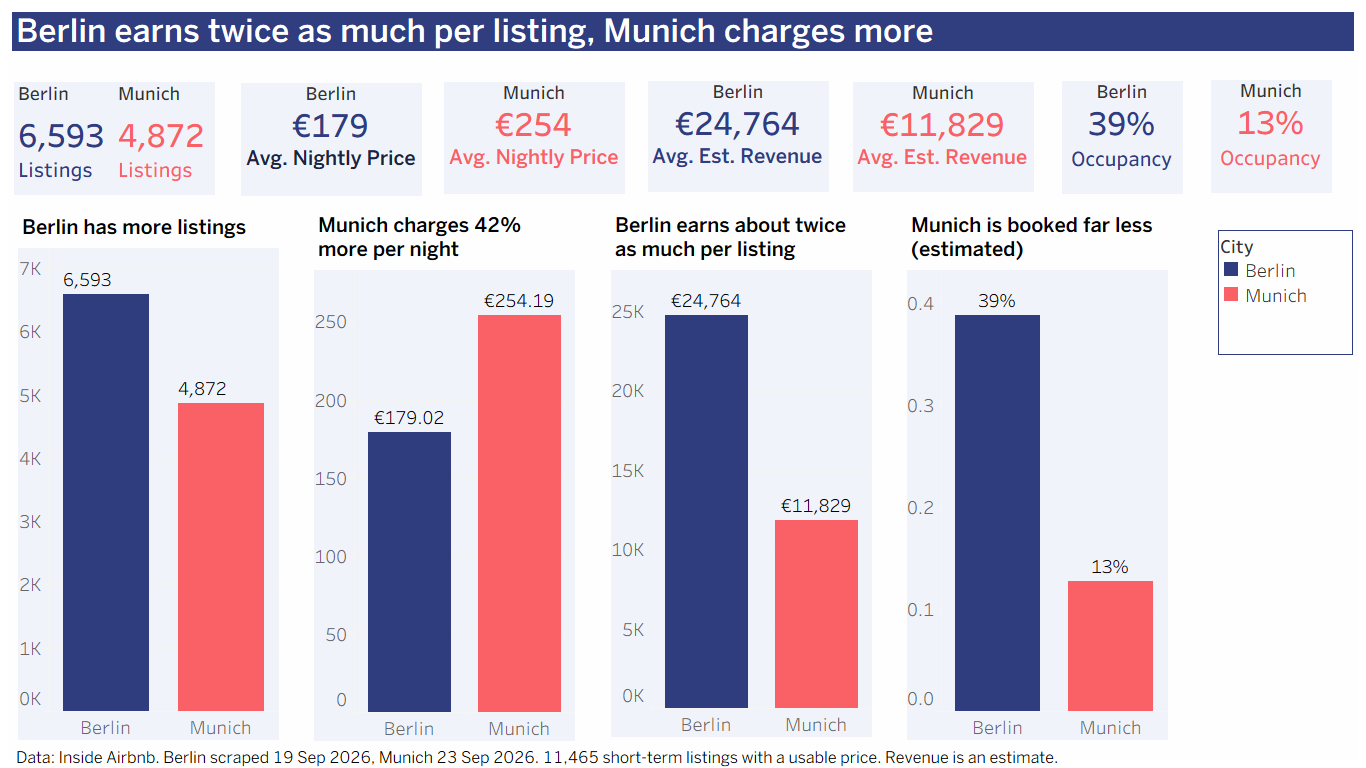

The page's visual inventory and layout, read from the dashboard file:
{"tool":"tableau","page":{"name":"KPI Scorecard","canvas":[1366,768],"ordinal":2},"visuals":[{"type":"text","box":[8,8,1350,47]},{"type":"worksheet","title":"KPI - Berlin Avg Revenue","mark":"Automatic","cols":["city"],"box":[648,63,184,125]},{"type":"worksheet","title":"KPI - Berlin Occupancy","mark":"Automatic","cols":["city"],"box":[1062,63,125,127]},{"type":"worksheet","title":"KPI - Munich Occupancy","mark":"Automatic","cols":["city"],"box":[1211,63,125,127]},{"type":"worksheet","title":"KPI Listings","mark":"Automatic","cols":["city"],"box":[14,64,213,127]},{"type":"worksheet","title":"KPI - Berlin Avg Price","mark":"Automatic","cols":["city"],"box":[241,64,187,127]},{"type":"worksheet","title":"KPI - Munich Avg Price","mark":"Automatic","cols":["city"],"box":[444,64,184,126]},{"type":"worksheet","title":"KPI - Munich Avg Revenue","mark":"Automatic","cols":["city"],"box":[853,64,187,124]},{"type":"worksheet","title":"Chart - Price by City","mark":"Automatic","rows":["price"],"cols":["city"],"box":[314,207,260,534]},{"type":"worksheet","title":"Chart - Revenue by City","mark":"Automatic","rows":["est_revenue_l365d"],"cols":["city"],"box":[611,207,260,530]},{"type":"worksheet","title":"Chart - Occupancy by City","mark":"Automatic","rows":["Calculation_0062453793746944"],"cols":["city"],"box":[907,207,260,533]},{"type":"worksheet","title":"Chart - Listings","mark":"Automatic","rows":["listing_id"],"cols":["city"],"box":[18,209,260,531]},{"type":"legend","title":"Chart - Price by City","param":"[federated.0aoo1ey18slqy915jfef4153ucxa].[none:city:nk]","box":[1218,230,135,125]},{"type":"text","box":[12,747,1347,20]}]}

Visuals, with their boxes in screenshot pixels (x1, y1, x2, y2), scaled from the page's 1366x768 canvas onto the 1366x768 screenshot:
text: 8,8,1358,55
"KPI - Berlin Avg Revenue" worksheet: 648,63,832,188
"KPI - Berlin Occupancy" worksheet: 1062,63,1187,190
"KPI - Munich Occupancy" worksheet: 1211,63,1336,190
"KPI Listings" worksheet: 14,64,227,191
"KPI - Berlin Avg Price" worksheet: 241,64,428,191
"KPI - Munich Avg Price" worksheet: 444,64,628,190
"KPI - Munich Avg Revenue" worksheet: 853,64,1040,188
"Chart - Price by City" worksheet: 314,207,574,741
"Chart - Revenue by City" worksheet: 611,207,871,737
"Chart - Occupancy by City" worksheet: 907,207,1167,740
"Chart - Listings" worksheet: 18,209,278,740
"Chart - Price by City" legend: 1218,230,1353,355
text: 12,747,1359,767
